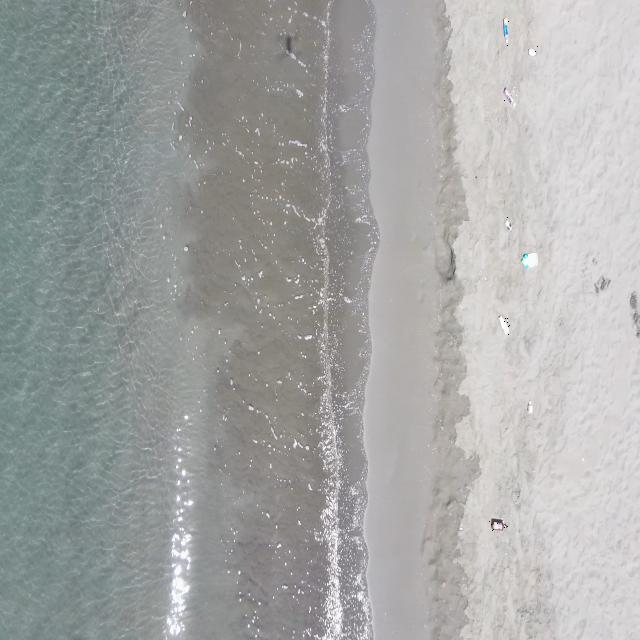Garbage: (520, 252, 536, 267), (504, 87, 515, 107), (489, 517, 507, 529), (497, 315, 508, 333), (503, 18, 507, 44), (504, 216, 511, 230), (527, 48, 535, 55), (528, 400, 532, 413)
